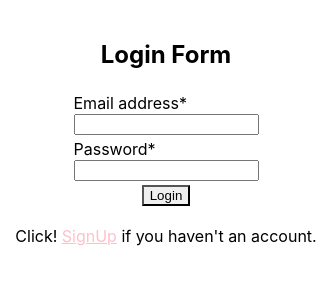
Test case: LoginPage › displays error message for invalid password format
Step 1. Type "invalidpassword" into the password field with test id "password" → (166, 170), box [74,160,258,181]
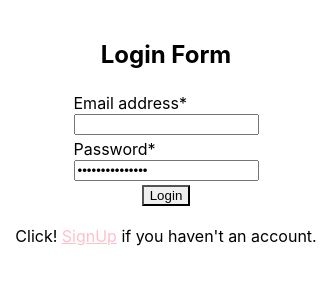
Step 2. Click the button with test id "loginBtn" → click(166, 195), box [142,185,190,206]
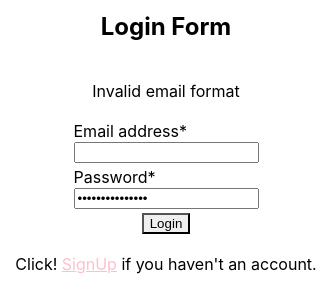
Result: the text with test id "error" is shown at [92,81,240,101]
